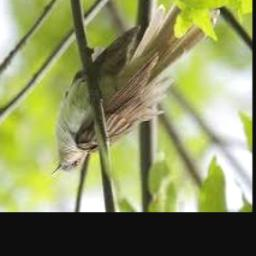Cuckoo: (50, 5, 220, 177)
